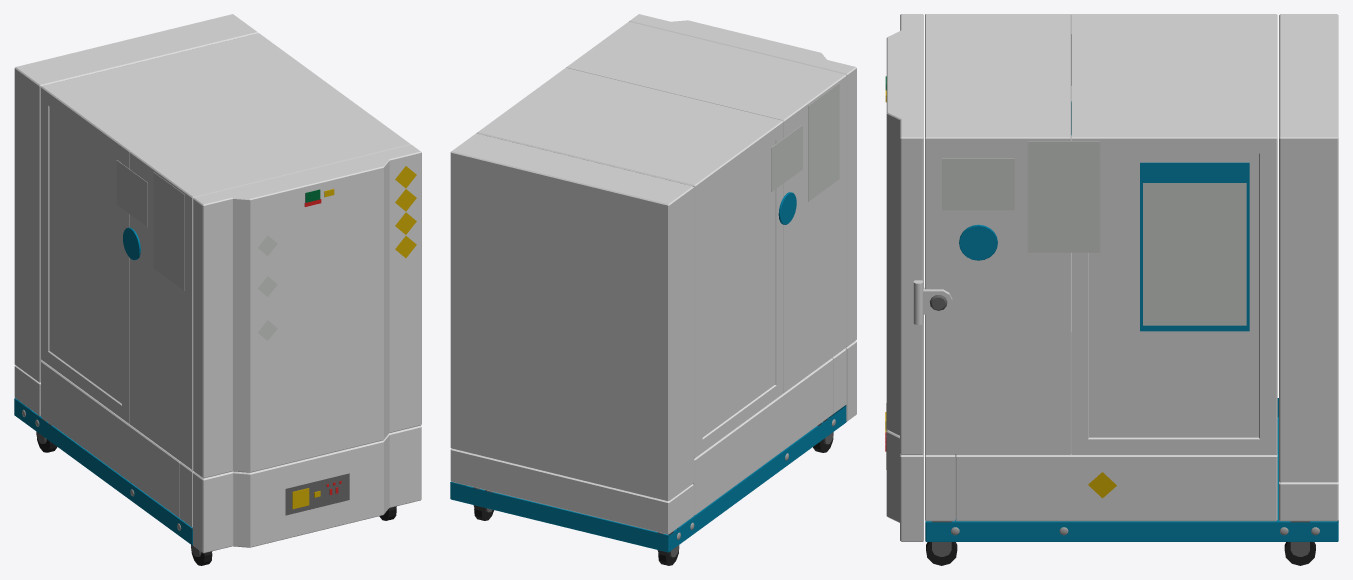
File: SYL2_01.fbx
The picture shows the model from 3 angles, left to right: view 1: azimuth 30°, elevation 25°; view 2: azimuth 150°, elevation 25°; view 3: azimuth 270°, elevation 25°; orthographic projection. The views are drawn at different scales.
Parts seen in each view (by area): view 1: SYL2_01; view 2: SYL2_01; view 3: SYL2_01.
Part boxes in pixels (x1,y1,x2,y2): SYL2_01: (14,14,421,565); SYL2_01: (450,14,856,565); SYL2_01: (885,14,1338,565).
Bounding box in the file's own units: 79.96 × 127 × 119.
